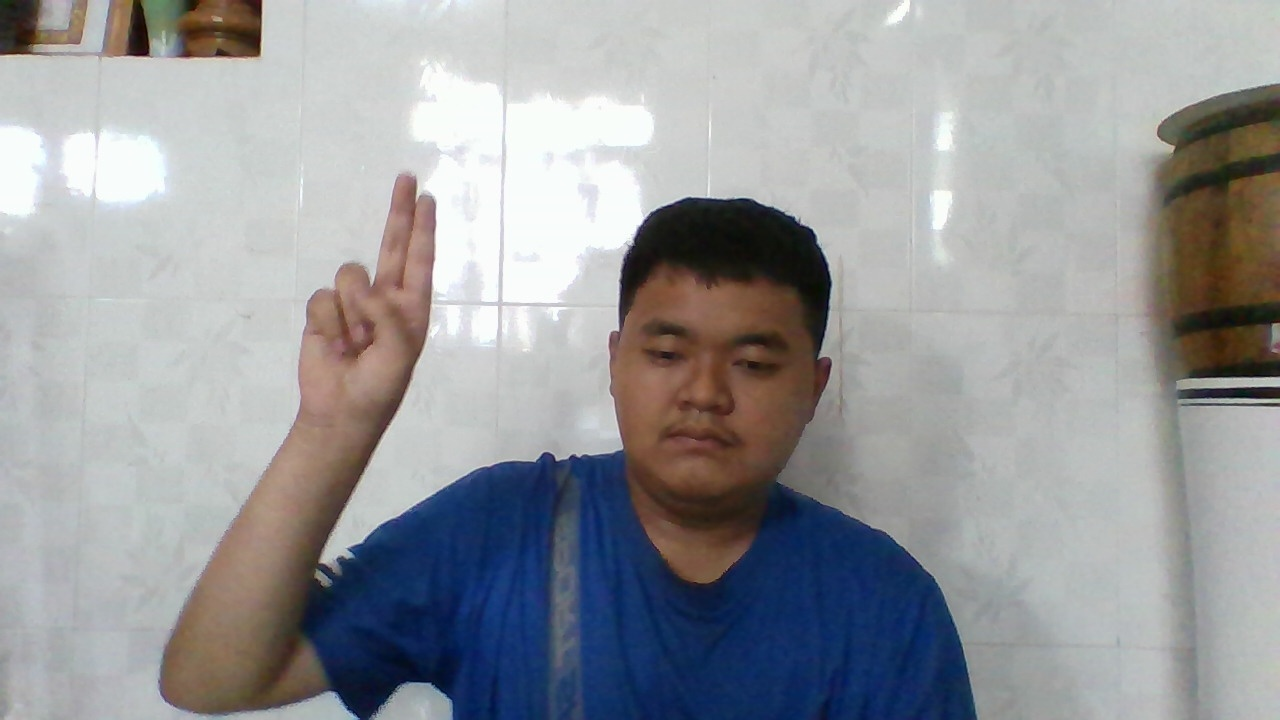U: (303, 165, 442, 432)
